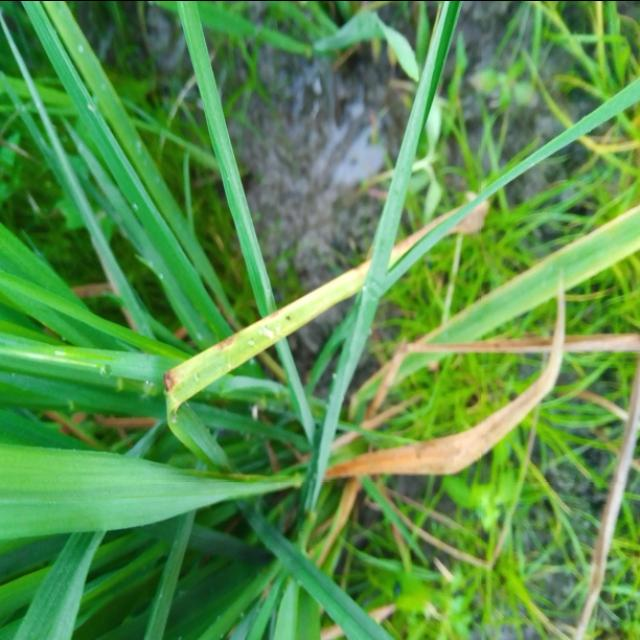Hawar Daun Bakteri: (124, 215, 458, 438)
